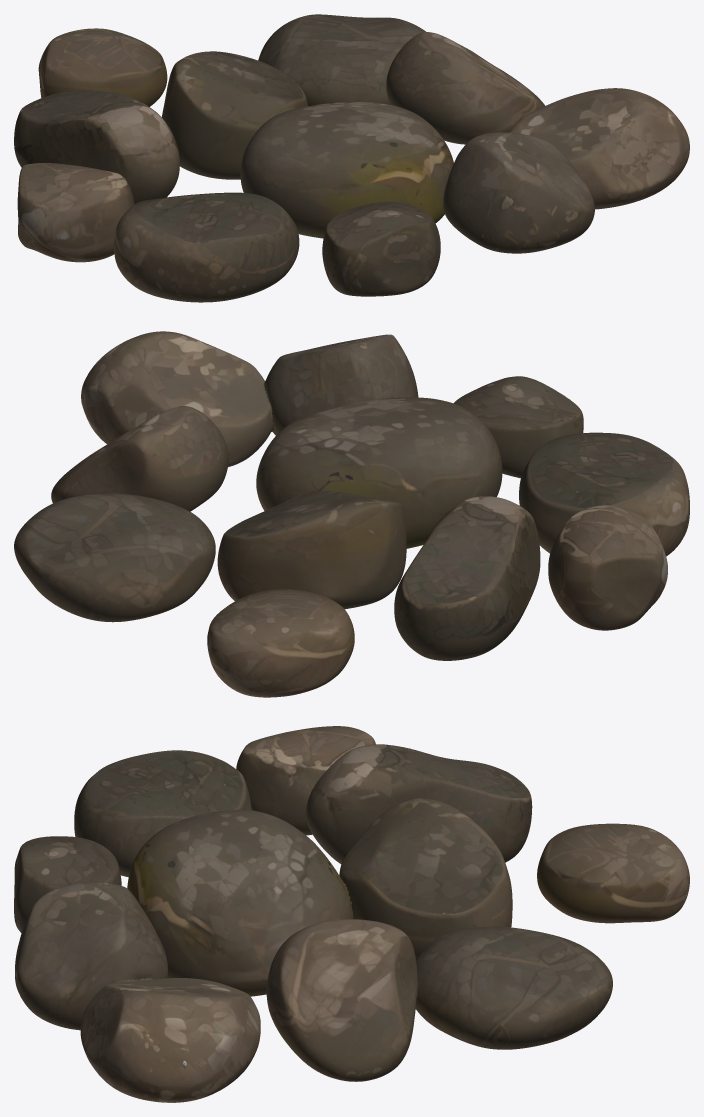
Rendered from forest_rock_small.glb.
3 renders of one model, top to bottom at view 1: azimuth 30°, elevation 25°; view 2: azimuth 150°, elevation 25°; view 3: azimuth 270°, elevation 25°, orthographic. The views are drawn at different scales.
Parts seen in each view (by area): view 1: tripo_node_f25da21e-4104-4bf8-87f8-f8c9213ef123; view 2: tripo_node_f25da21e-4104-4bf8-87f8-f8c9213ef123; view 3: tripo_node_f25da21e-4104-4bf8-87f8-f8c9213ef123.
Part boxes in pixels (x1=…): tripo_node_f25da21e-4104-4bf8-87f8-f8c9213ef123: x1=14, y1=14, x2=689, y2=302; tripo_node_f25da21e-4104-4bf8-87f8-f8c9213ef123: x1=14, y1=331, x2=689, y2=697; tripo_node_f25da21e-4104-4bf8-87f8-f8c9213ef123: x1=14, y1=726, x2=689, y2=1102.
Bounding box in the file's own units: 1 × 0.1708 × 0.894.
Materials: 1 (1 with a texture image).
